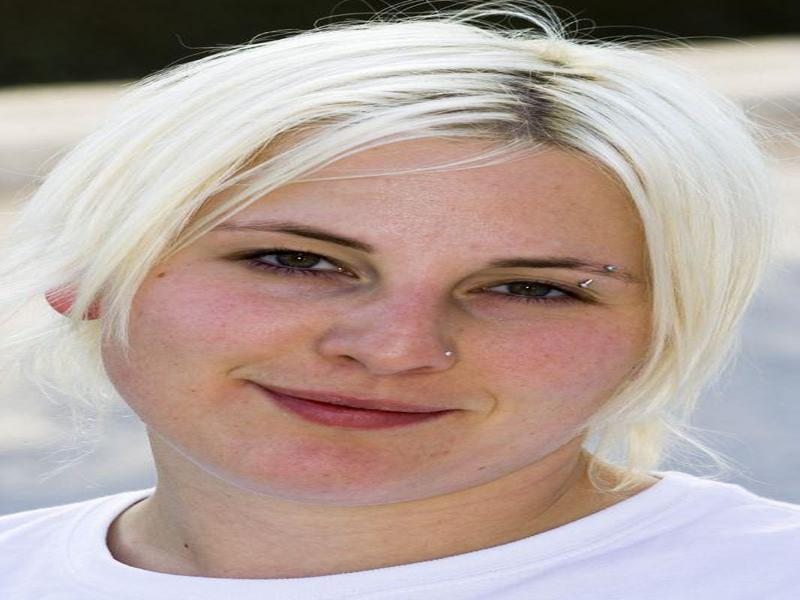person: (33, 25, 793, 600)
